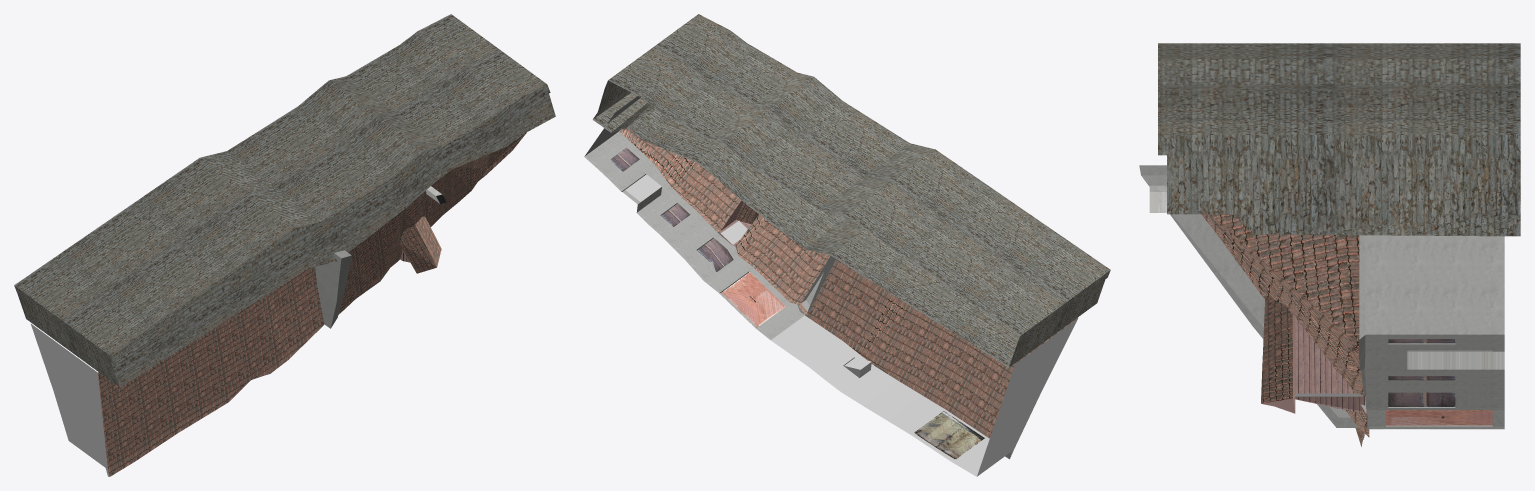
The model's file is Laboratooriumi_23-origo.obj.
3 renders of one model, left to right at view 1: azimuth 30°, elevation 25°; view 2: azimuth 150°, elevation 25°; view 3: azimuth 270°, elevation 25°, orthographic. The views are drawn at different scales.
Visible parts, largest first — view 1: Laboratooriumi_23; view 2: Laboratooriumi_23; view 3: Laboratooriumi_23.
Part boxes in pixels (x1,y1,x2,y2): Laboratooriumi_23: [14, 14, 555, 476]; Laboratooriumi_23: [584, 14, 1110, 476]; Laboratooriumi_23: [1139, 43, 1520, 446].
Size of the model in its own units: 27 by 18.5 by 10.02.
